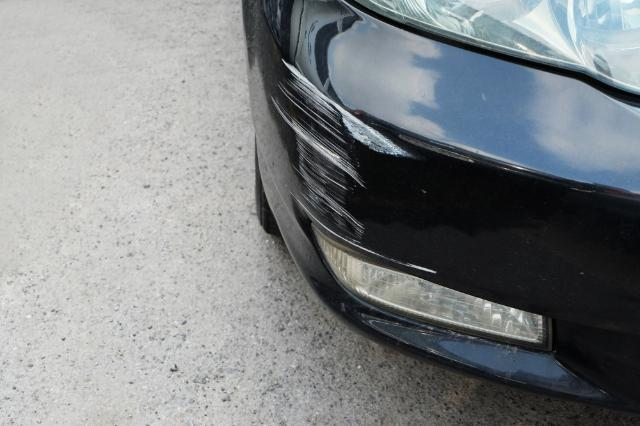rub: (273, 57, 440, 277)
